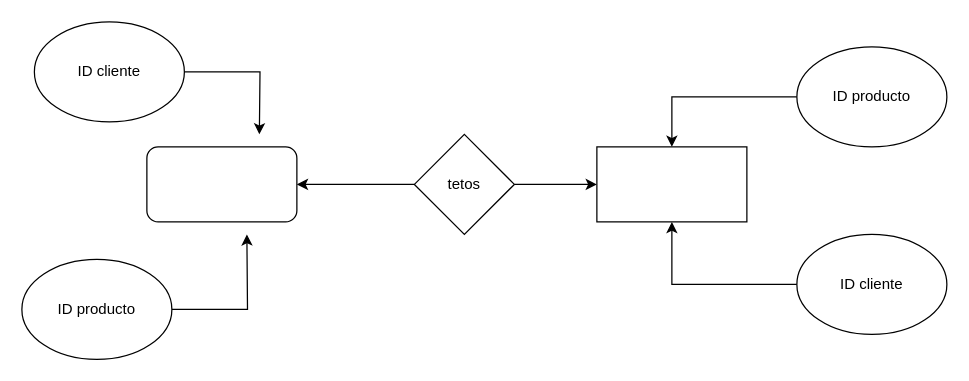
Image size: 969x381. Some labels were removed from this diagram. The shapes that lost their labels are listed below. From the top down, each one's centre as x and y in pixels, then its label:
point (221, 184): producto
point (671, 184): ventas
